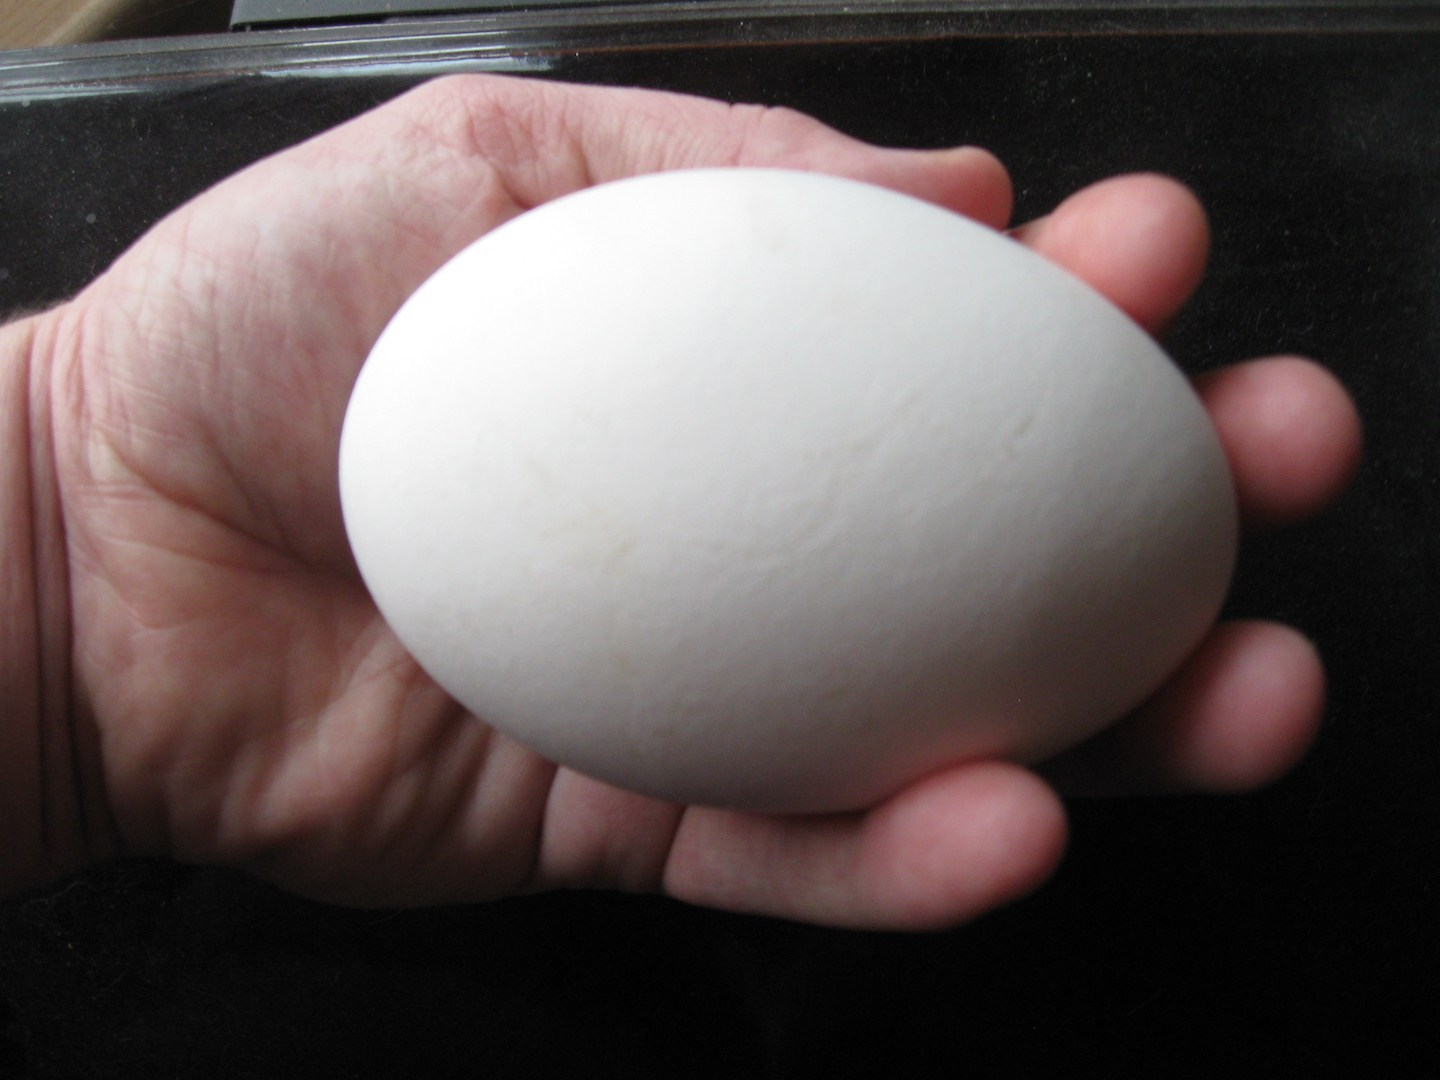Egg: (315, 151, 1253, 832)
